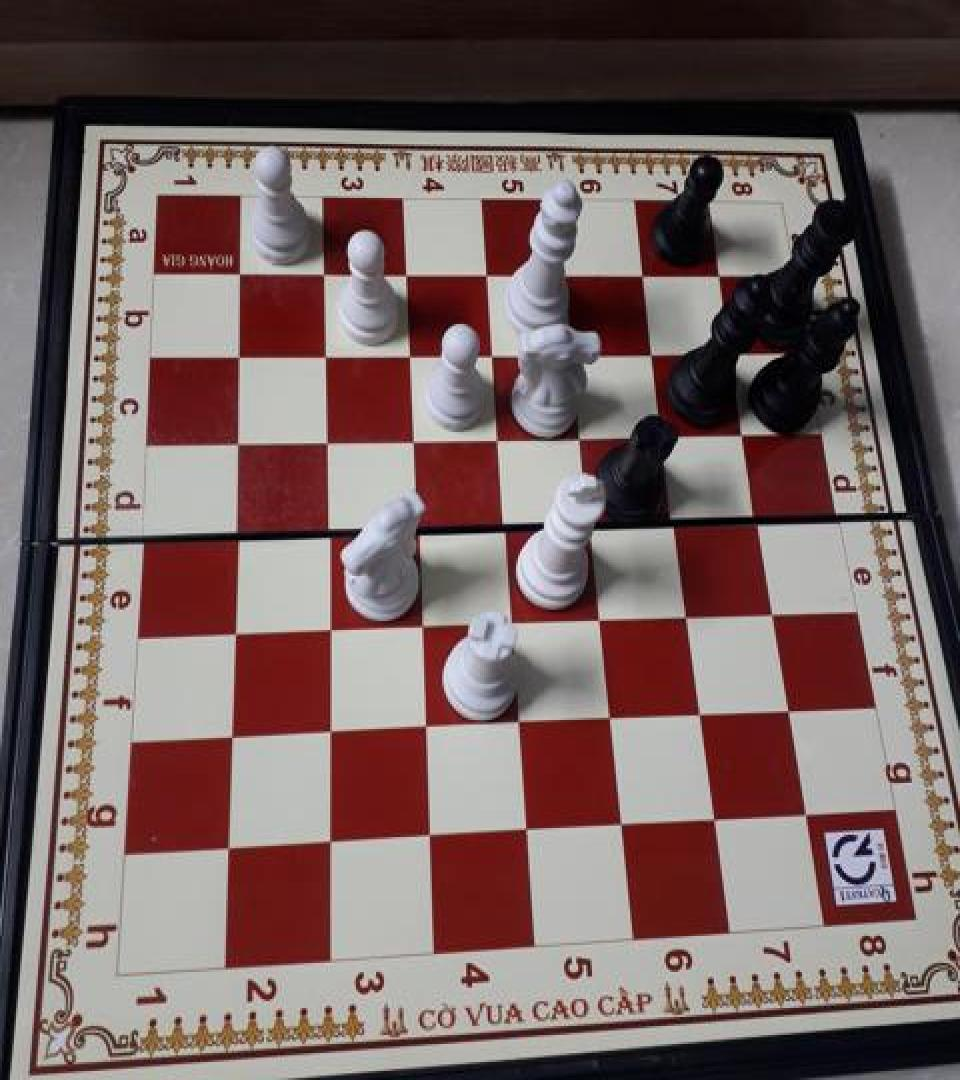xcorner: (387, 255, 421, 294), (305, 255, 339, 294), (306, 335, 340, 374), (394, 418, 428, 457), (657, 499, 691, 538), (770, 686, 804, 725), (405, 705, 439, 744), (702, 253, 736, 291), (625, 253, 659, 291), (547, 255, 581, 293), (468, 255, 502, 293), (222, 256, 256, 294), (714, 330, 748, 368), (635, 331, 669, 369), (555, 332, 589, 370), (473, 333, 507, 371), (390, 334, 424, 372), (220, 338, 254, 376), (727, 411, 761, 449), (645, 413, 679, 451), (563, 415, 597, 453), (479, 416, 513, 454), (307, 421, 341, 459), (219, 423, 253, 461), (740, 498, 774, 536), (572, 503, 606, 541), (485, 505, 519, 543), (397, 508, 431, 546), (308, 511, 342, 549), (217, 514, 251, 552), (755, 588, 789, 626), (669, 592, 703, 630), (581, 596, 615, 634), (492, 600, 526, 638), (401, 603, 435, 641), (309, 608, 343, 646), (215, 611, 249, 649), (681, 691, 715, 729), (591, 696, 625, 734), (499, 700, 533, 738), (310, 710, 344, 748), (212, 714, 246, 752), (786, 790, 820, 828), (695, 796, 729, 834), (602, 802, 636, 840), (506, 808, 540, 846), (410, 814, 444, 852), (311, 820, 345, 858), (210, 826, 244, 864)
